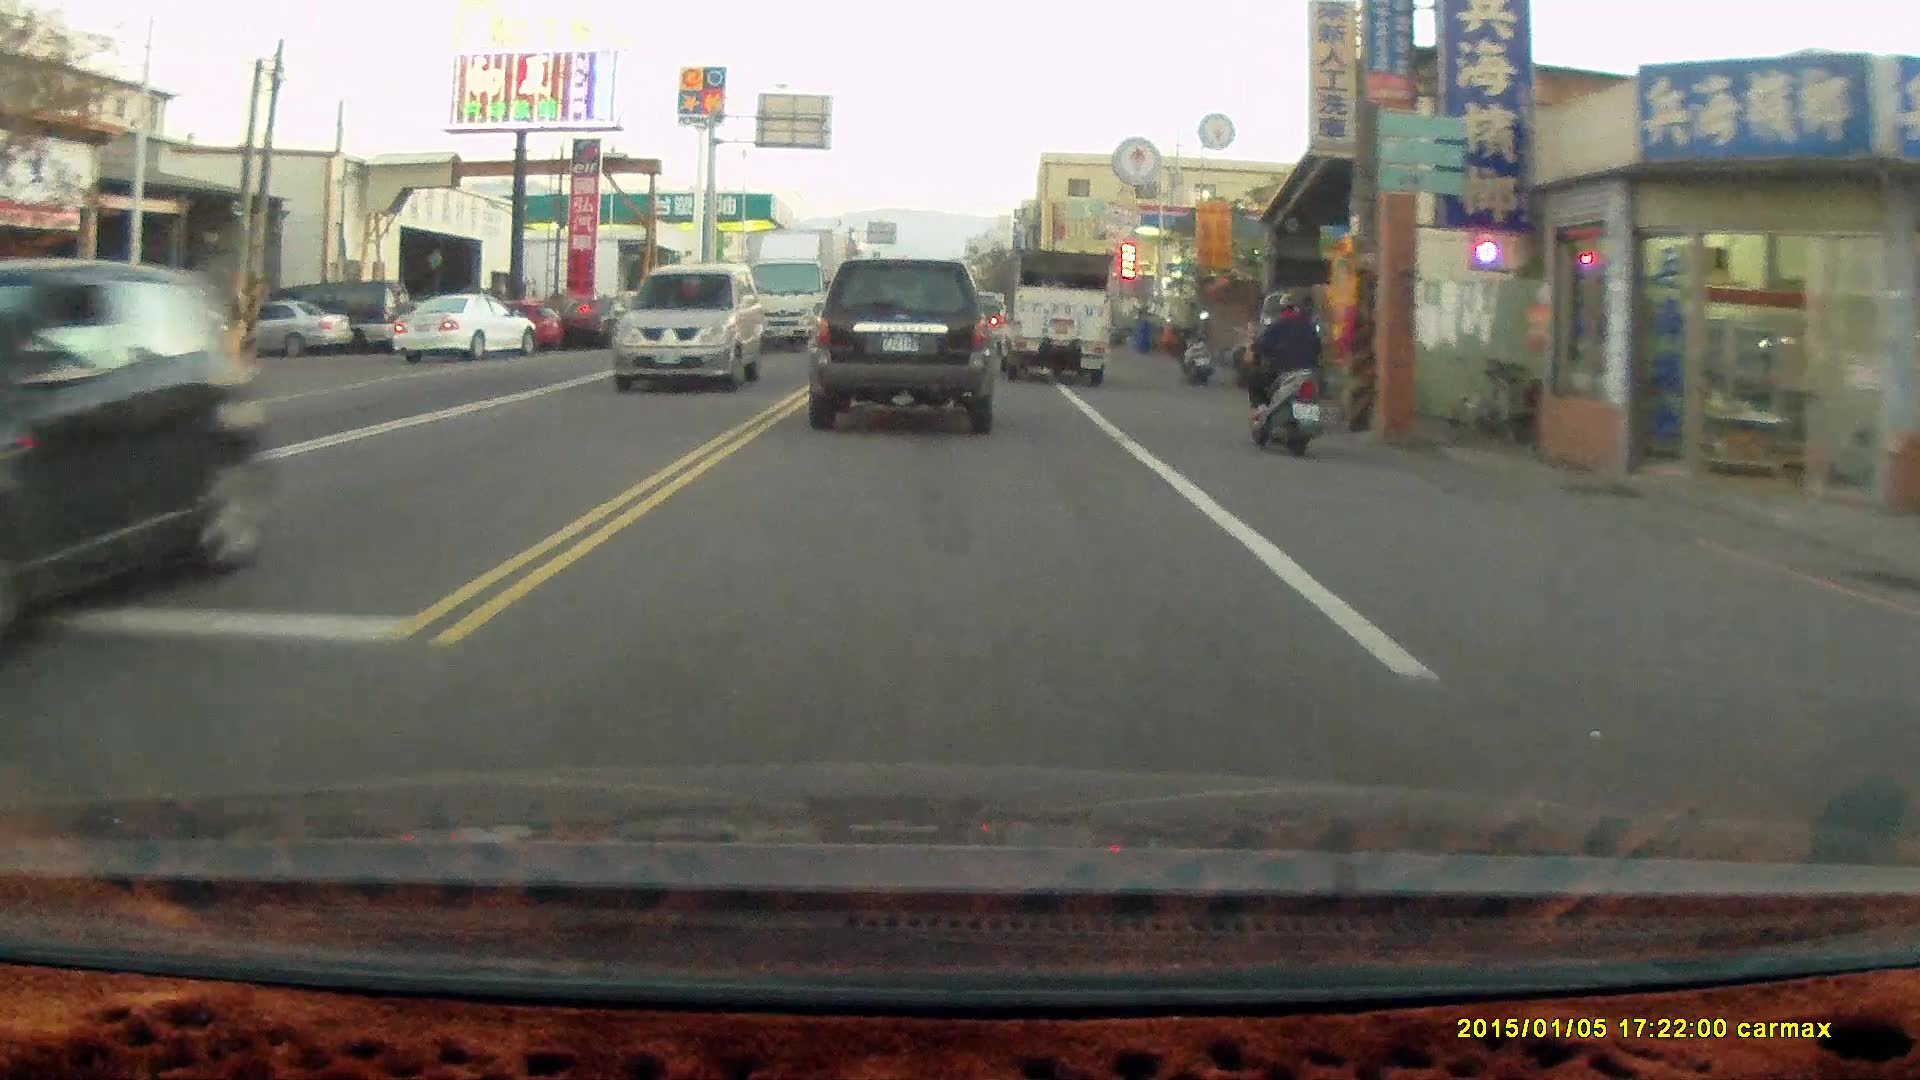rider: (1233, 287, 1327, 456)
vehicle: (1, 255, 280, 665), (806, 257, 999, 435), (613, 261, 766, 389), (995, 246, 1112, 385), (392, 293, 539, 362), (224, 299, 354, 361)
